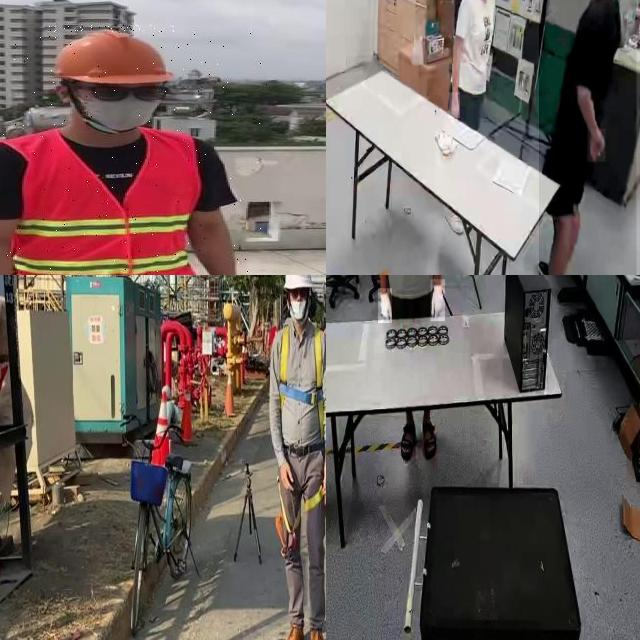Harness: (280, 325, 323, 438), (275, 488, 324, 558)
No_Ear-Protection: (46, 74, 80, 110)
hand_glove: (430, 279, 446, 322), (378, 288, 392, 324)
hand_noglove: (588, 128, 606, 162), (448, 92, 461, 119)
head_helmet: (46, 26, 178, 86)
person: (0, 31, 268, 275), (539, 0, 637, 275), (450, 0, 497, 132), (371, 275, 445, 317)
shoes: (534, 253, 567, 275)
vest: (6, 132, 209, 275)
